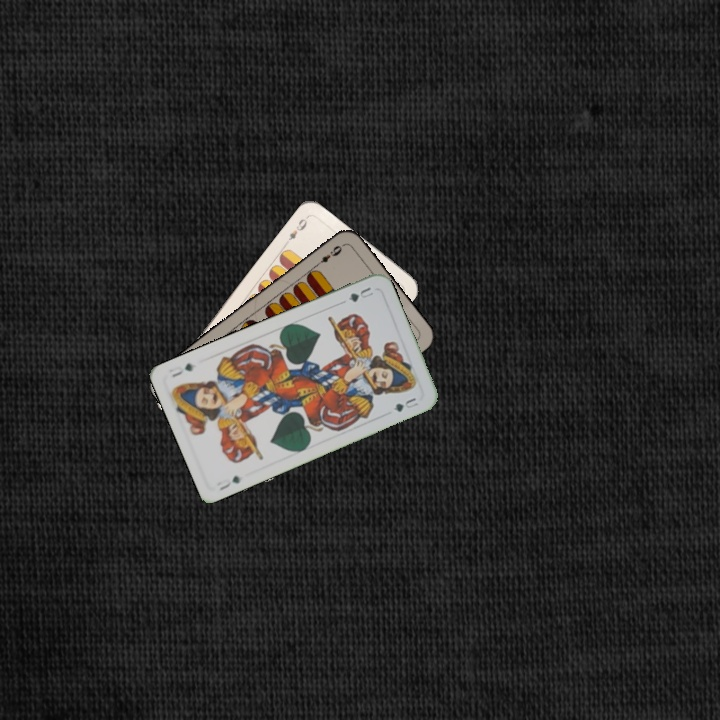E9: (281, 213, 310, 248), (311, 241, 346, 269)
GU: (344, 283, 376, 305), (215, 471, 243, 493)
